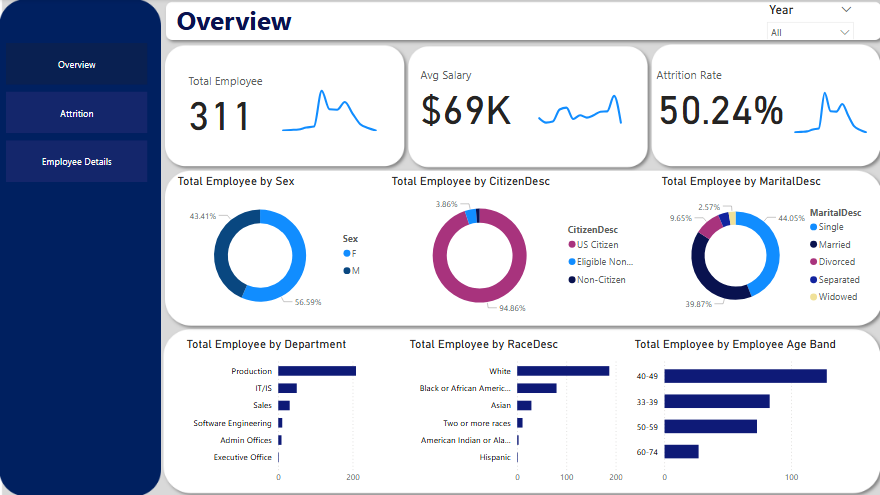

This screenshot's page, from the dashboard's own definition file:
{"tool":"powerbi","page":{"name":"Overview","canvas":[1280,720],"ordinal":0},"visuals":[{"type":"cardVisual","fields":{"Data":["All Measure.Total Employee"]},"box":[260.6,92.2,146.9,123.8],"z":0},{"type":"lineChart","fields":{"Category":["Date Table.Year"],"Y":["All Measure.Total Employee"]},"box":[382.6,107.3,196.6,89.4],"z":1000},{"type":"cardVisual","fields":{"Data":["All Measure.Avg Salary"]},"box":[595,84,194.9,123.4],"z":2000},{"type":"lineChart","fields":{"Category":["Date Table.Year"],"Y":["All Measure.Avg Salary"]},"box":[752.6,109.1,177,89.4],"z":3000},{"type":"lineChart","fields":{"Category":["Date Table.Year"],"Y":["All Measure.Total Employee"]},"box":[1123.2,109.4,157,89.3],"z":4000},{"type":"cardVisual","fields":{"Data":["All Measure.Attrition Rate"]},"box":[934.6,83.5,233.3,123.8],"z":5000},{"type":"donutChart","fields":{"Y":["All Measure.Total Employee"],"Category":["HRDataset.Sex"]},"box":[252,252,290.9,216],"z":6000},{"type":"donutChart","fields":{"Y":["All Measure.Total Employee"],"Category":["HRDataset.MaritalDesc"]},"box":[949,252,315.4,216],"z":7000},{"type":"donutChart","fields":{"Y":["All Measure.Total Employee"],"Category":["HRDataset.CitizenDesc"]},"box":[559.4,252,373,216],"z":8000},{"type":"barChart","fields":{"Y":["All Measure.Total Employee"],"Category":["HRDataset.Department"]},"box":[264.5,486.6,312.9,220.1],"z":9000},{"type":"barChart","fields":{"Y":["All Measure.Total Employee"],"Category":["HRDataset.Employee Age Band"]},"box":[910.5,486.6,337.2,220.1],"z":10000},{"type":"barChart","fields":{"Y":["All Measure.Total Employee"],"Category":["HRDataset.RaceDesc"]},"box":[585.5,486.6,317,220.1],"z":11000},{"type":"slicer","fields":{"Values":["Date Table.Year"]},"box":[1095.8,0,145,58],"z":12000},{"type":"textbox","box":[250.3,0,312.9,62.6],"z":13000},{"type":"pageNavigator","box":[10.1,63.4,204.5,201.6],"z":13001}]}

Visuals, with their boxes on the page's 1280x720 design canvas (x1, y1, x2, y2). These are canvas units, not pixel positions in the 880x495 screenshot, which may show the page scaled, cropped or inside an application window:
cardVisual - All Measure.Total Employee: <box>261,92,408,216</box>
lineChart - Date Table.Year x All Measure.Total Employee: <box>383,107,579,197</box>
cardVisual - All Measure.Avg Salary: <box>595,84,790,207</box>
lineChart - Date Table.Year x All Measure.Avg Salary: <box>753,109,930,198</box>
lineChart - Date Table.Year x All Measure.Total Employee: <box>1123,109,1280,199</box>
cardVisual - All Measure.Attrition Rate: <box>935,84,1168,207</box>
donutChart - All Measure.Total Employee x HRDataset.Sex: <box>252,252,543,468</box>
donutChart - All Measure.Total Employee x HRDataset.MaritalDesc: <box>949,252,1264,468</box>
donutChart - All Measure.Total Employee x HRDataset.CitizenDesc: <box>559,252,932,468</box>
barChart - All Measure.Total Employee x HRDataset.Department: <box>264,487,577,707</box>
barChart - All Measure.Total Employee x HRDataset.Employee Age Band: <box>910,487,1248,707</box>
barChart - All Measure.Total Employee x HRDataset.RaceDesc: <box>586,487,902,707</box>
slicer - Date Table.Year: <box>1096,0,1241,58</box>
textbox: <box>250,0,563,63</box>
pageNavigator: <box>10,63,215,265</box>
